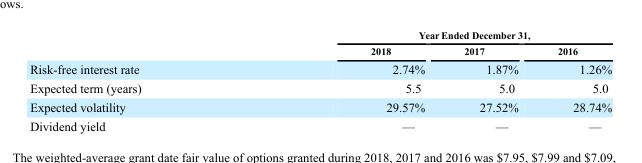table: (29, 28, 611, 132)
table column: (29, 28, 255, 132), (255, 28, 443, 132), (443, 28, 537, 132), (537, 28, 611, 132)
table column header: (29, 28, 611, 58)
table row: (29, 58, 611, 77), (29, 77, 611, 96), (29, 96, 611, 115), (29, 115, 611, 132), (29, 42, 611, 58), (29, 28, 611, 42)
table spanning cell: (255, 28, 611, 42)
